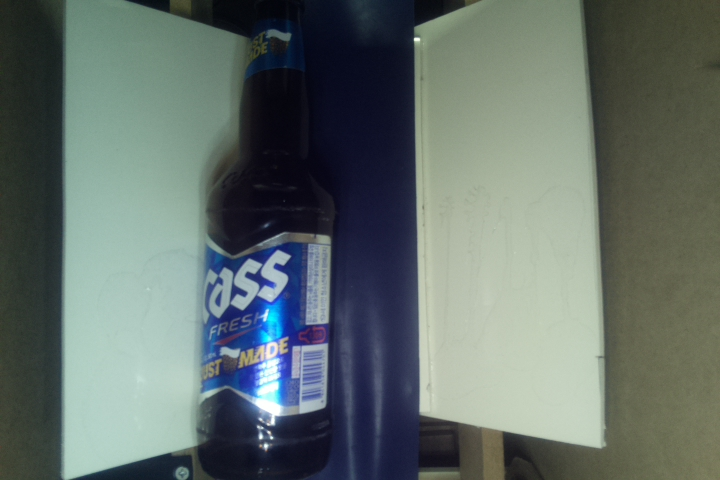makju: (192, 1, 339, 477)
